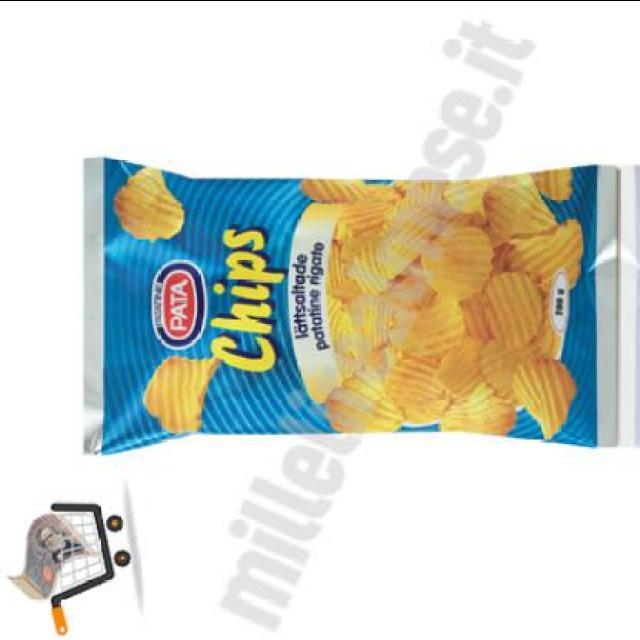Chips: (87, 150, 622, 462)
